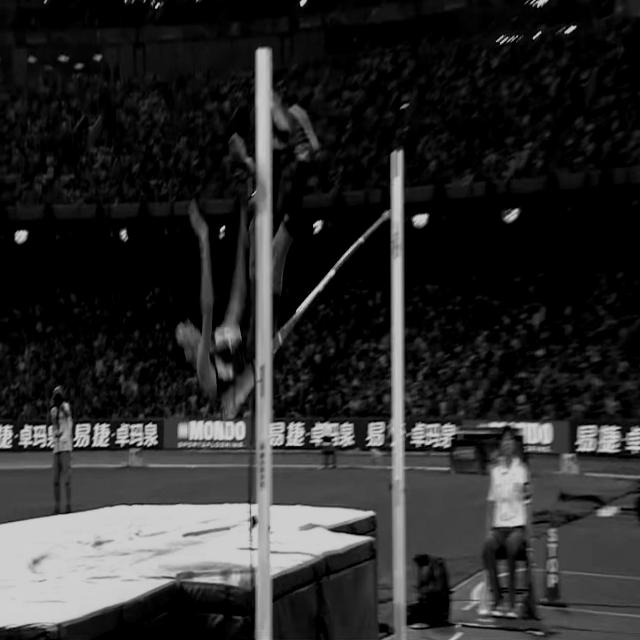land: (173, 88, 319, 396)
